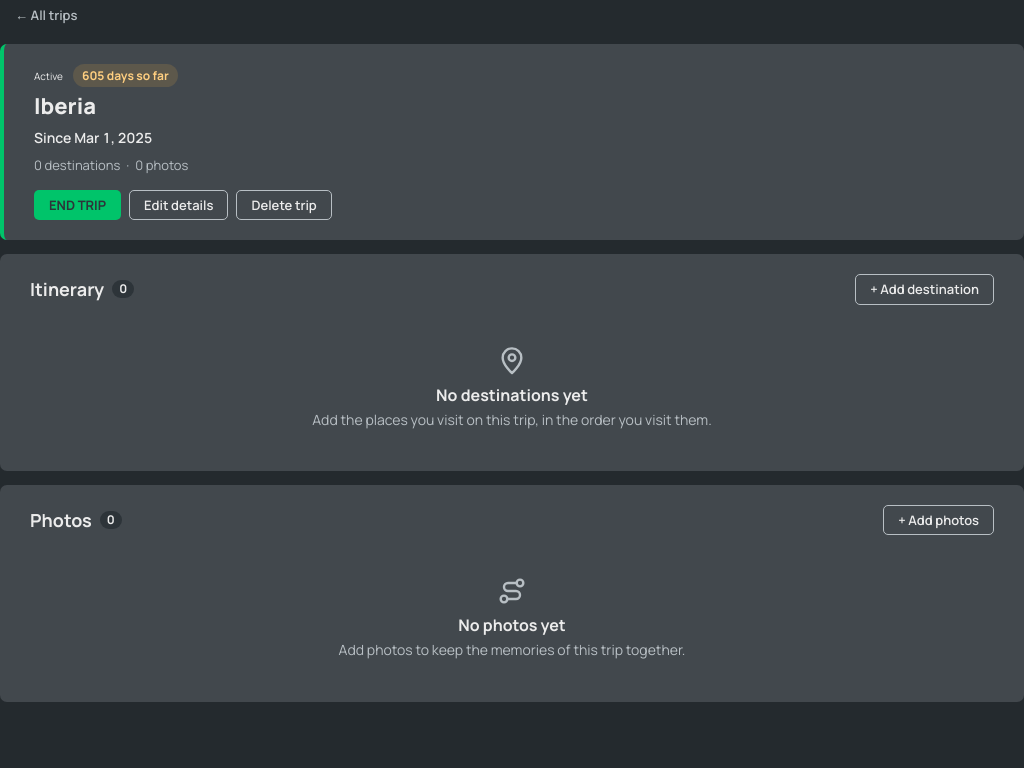
Test: End trip › shows the error and keeps the dialog open when saving fails
Click the button "End trip": (78, 205) left=34, top=190, right=121, bottom=220
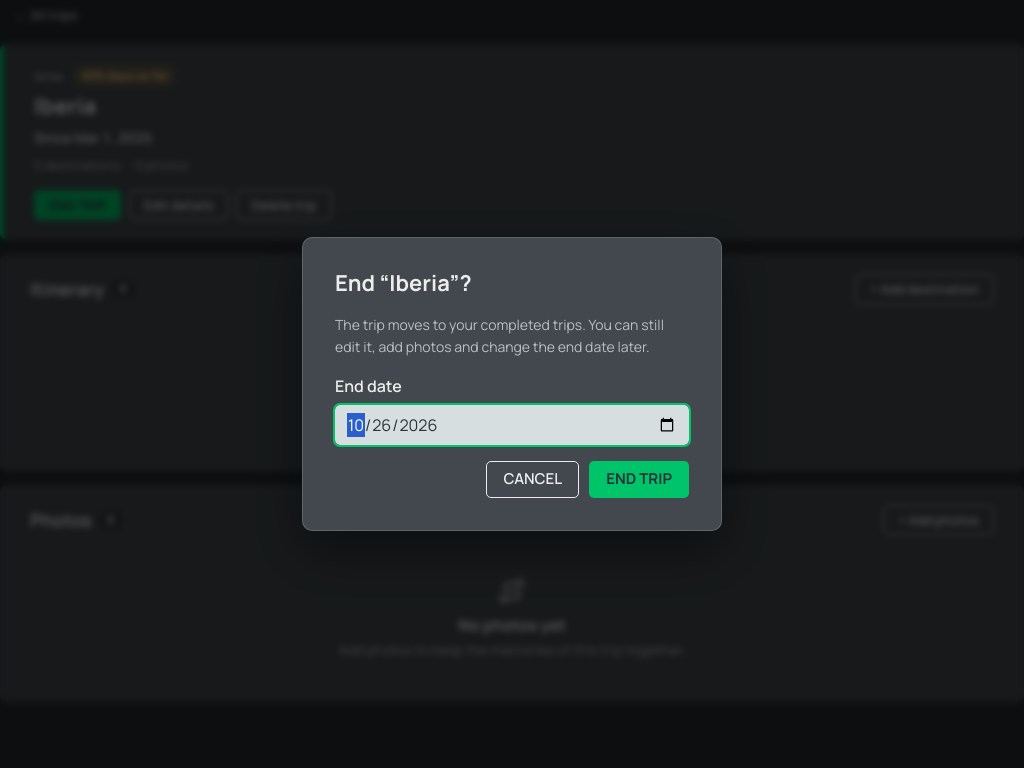
Click the button "End trip": (639, 480) left=589, top=461, right=689, bottom=498
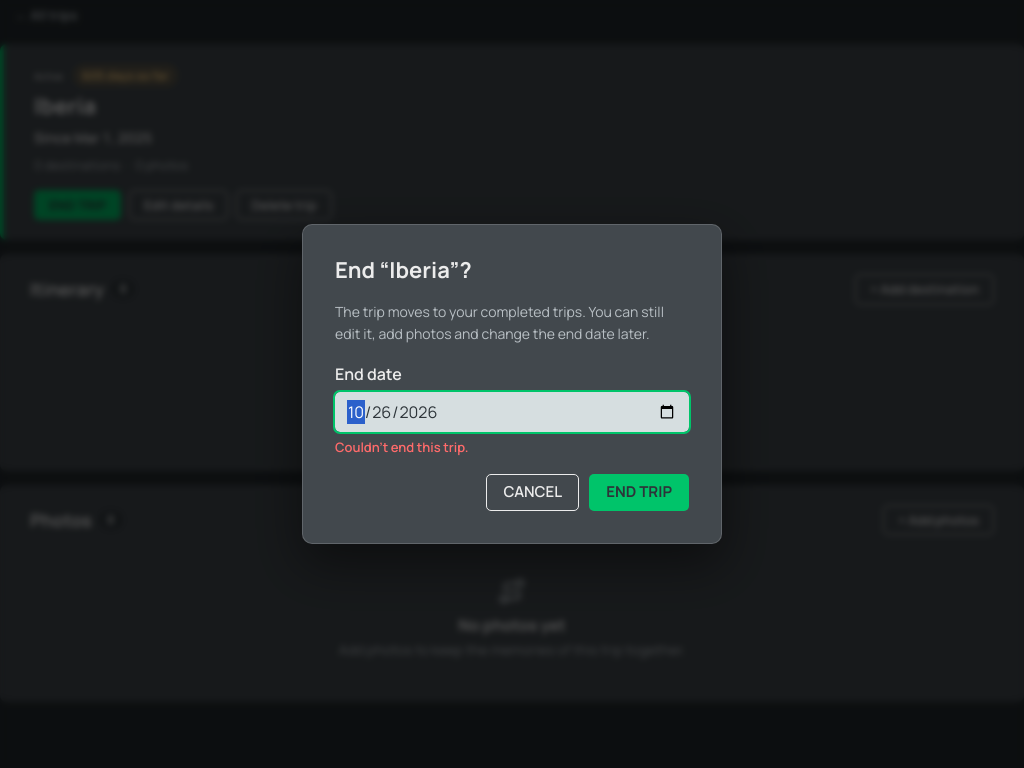
Check: the button "End trip" is enabled, box left=589, top=474, right=689, bottom=511
Check: the text "Couldn't end this trip." is shown, box left=335, top=438, right=469, bottom=456
